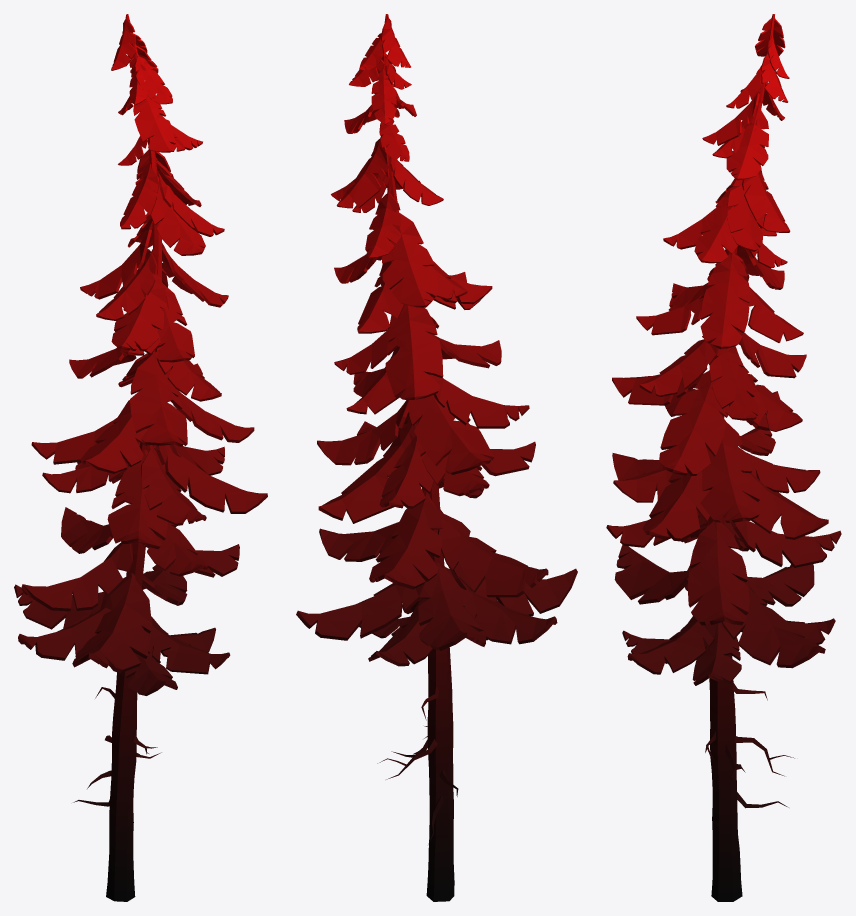
The model's file is TreeSpruceTall01.fbx.
The picture shows the model from 3 angles, left to right: view 1: azimuth 30°, elevation 25°; view 2: azimuth 150°, elevation 25°; view 3: azimuth 270°, elevation 25°; orthographic projection. The views are drawn at different scales.
Visible parts, largest first — view 1: TreeSpruceTall01_LOD0; view 2: TreeSpruceTall01_LOD0; view 3: TreeSpruceTall01_LOD0.
Part boxes in pixels (left/top/right/bottom): TreeSpruceTall01_LOD0: left=14, top=14, right=267, bottom=901; TreeSpruceTall01_LOD0: left=296, top=14, right=577, bottom=901; TreeSpruceTall01_LOD0: left=606, top=14, right=841, bottom=901.
Size of what is drawn, in the model's own units: 245 by 892 by 212.
